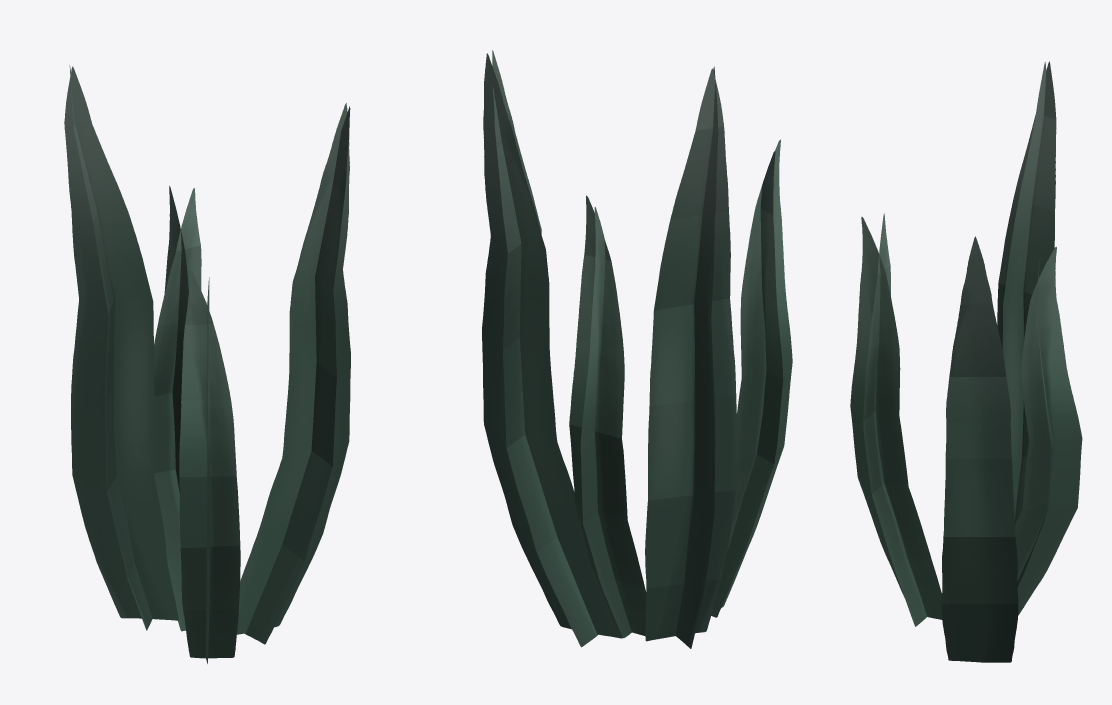
File: Herbe001.fbx
3 views of the same model, side by side, from view 1: azimuth 30°, elevation 25°; view 2: azimuth 150°, elevation 25°; view 3: azimuth 270°, elevation 25° (orthographic). The views are drawn at different scales.
Parts seen in each view (by area): view 1: Plane.016; view 2: Plane.016; view 3: Plane.016.
Boxes of the visible parts, box(x1,y1,x2,y2) form: Plane.016: box(64, 65, 350, 663); Plane.016: box(482, 50, 792, 648); Plane.016: box(850, 61, 1082, 662).
Bounding box in the file's own units: 86.46 × 151 × 62.67.
